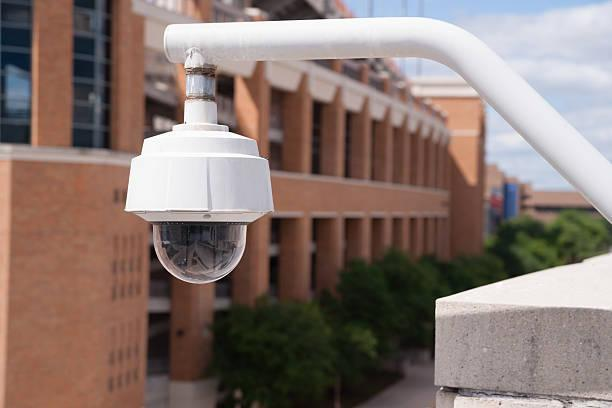camera: (111, 99, 292, 319)
